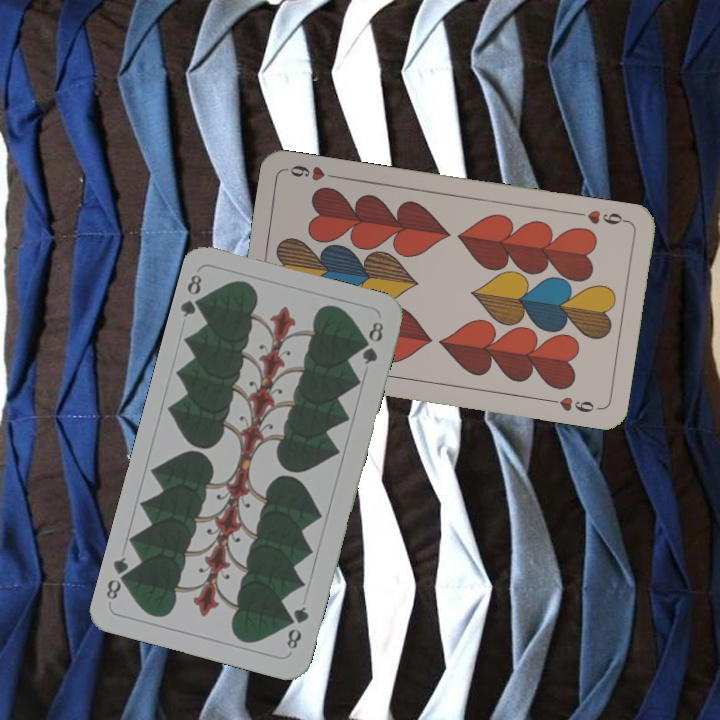G8: (177, 270, 209, 320), (282, 602, 312, 652)
H9: (571, 206, 630, 228)
